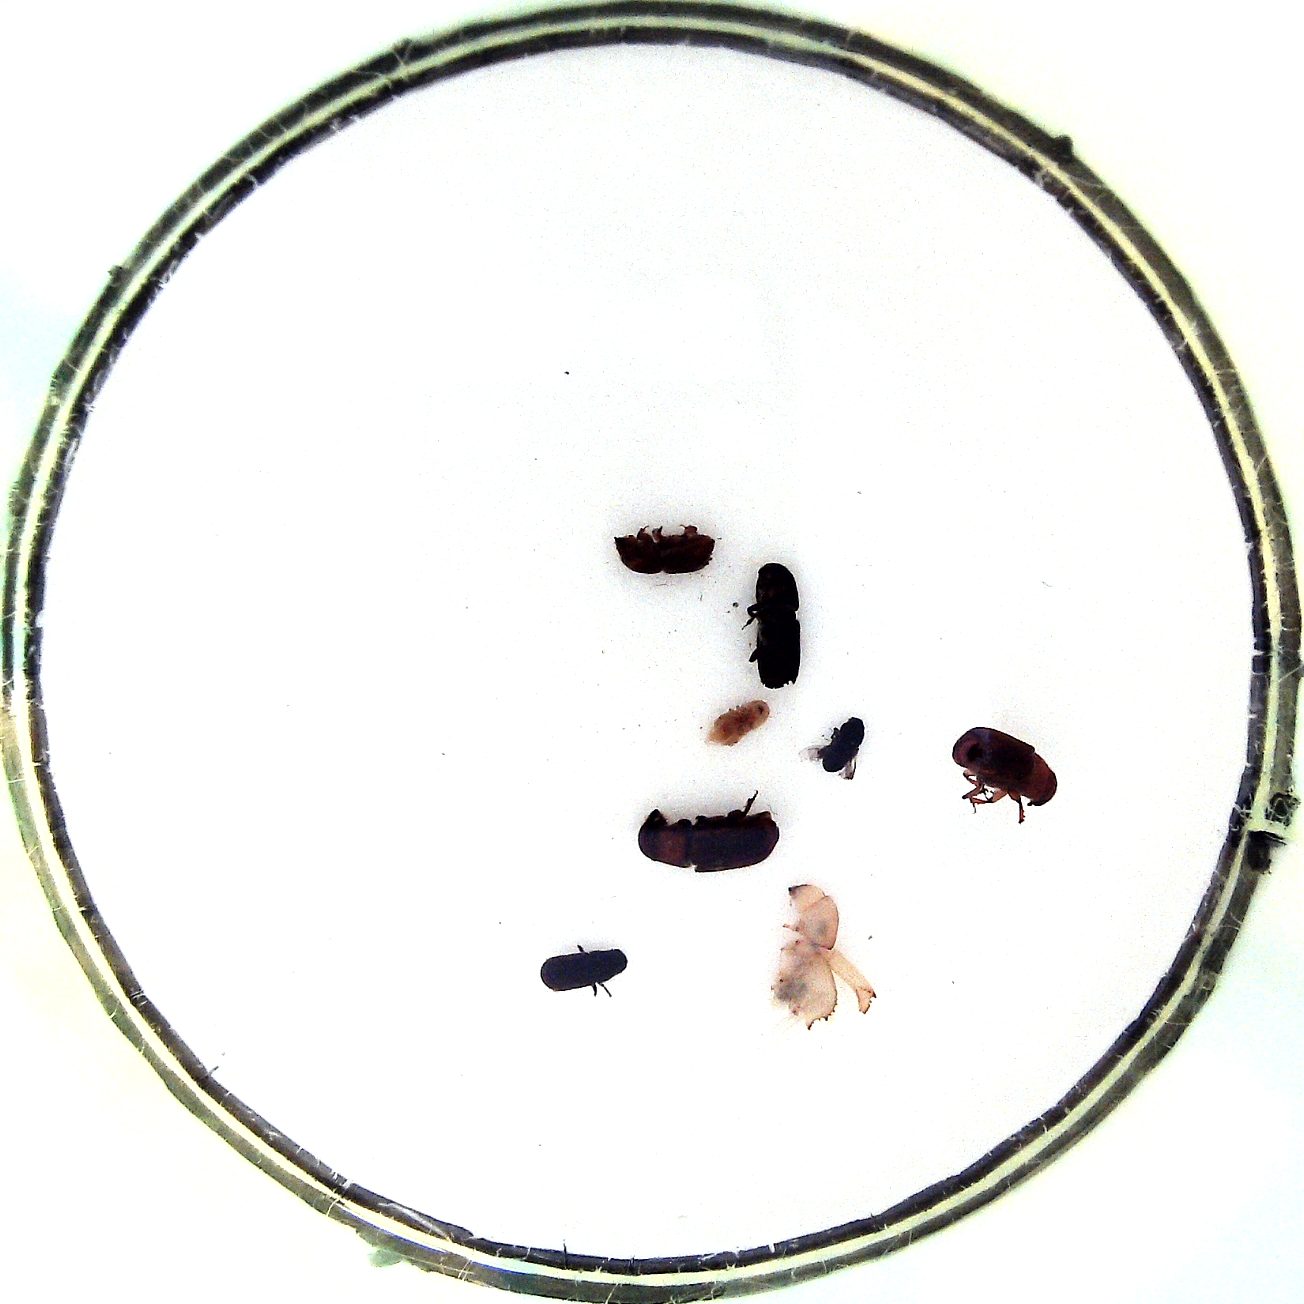Boerner: (769, 882, 879, 1034), (743, 559, 807, 690)
Leconte: (948, 718, 1059, 829), (636, 791, 781, 872)
Linnaeus: (609, 524, 722, 578)
acuminatus: (705, 696, 776, 754)
armandi: (540, 941, 631, 1005)
coleoptera: (804, 718, 868, 780)
